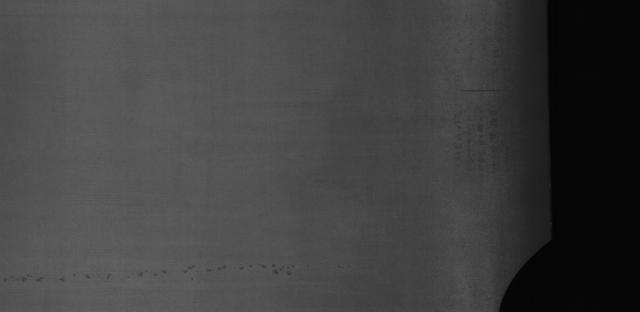crescent_gap: (483, 230, 593, 312)
